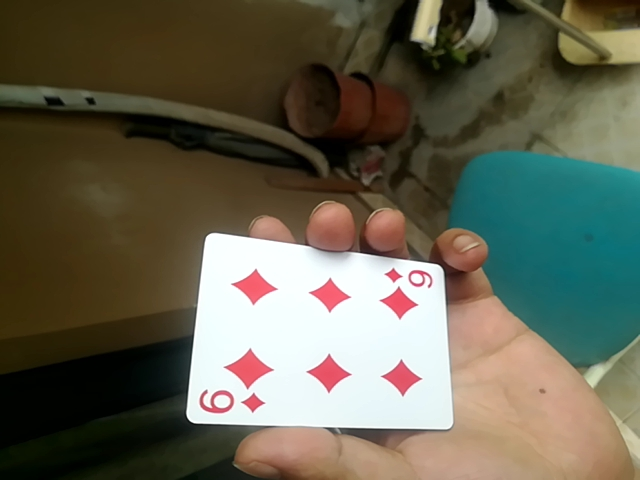fk 6: (182, 226, 451, 429)
